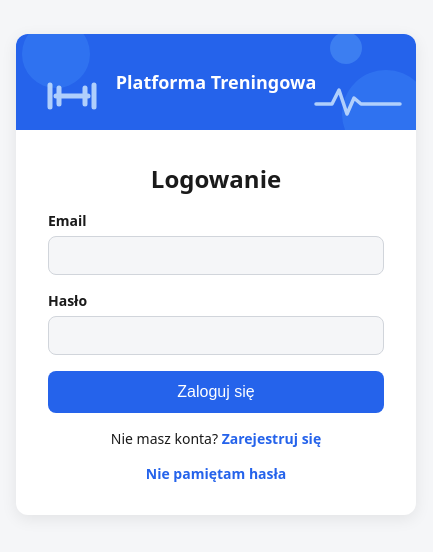
LoginPage › przy 401 pokazuje ogólny komunikat, nie przekierowuje i nie wylogowuje
Type "jan@example.com" into the field labelled "Email" at (216, 255), box left=48, top=236, right=384, bottom=274
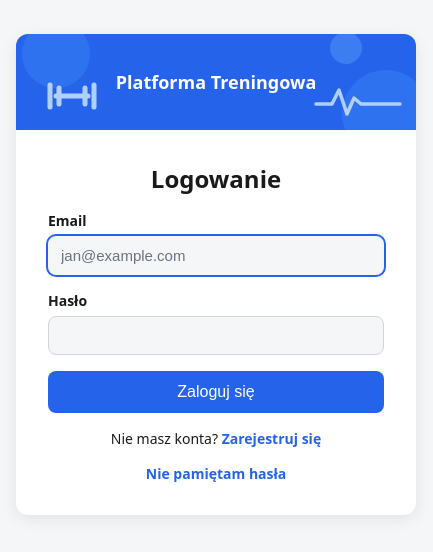
Type "zle-haslo" into the password field labelled "Hasło" at (216, 335), box left=48, top=316, right=384, bottom=354
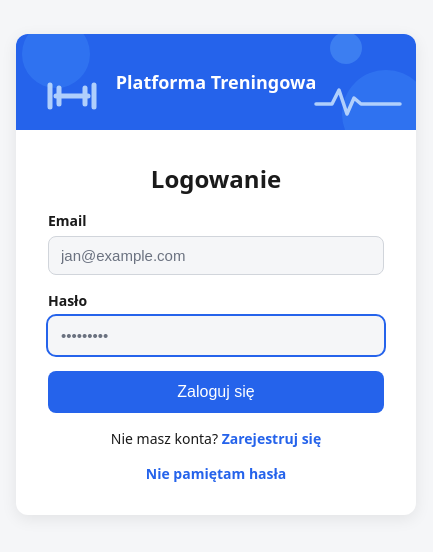
Click the button "Zaloguj się" at (216, 392), box left=48, top=370, right=384, bottom=412
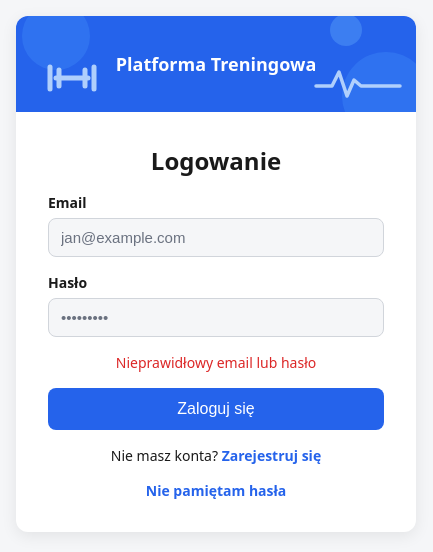
Expected: the button "Zaloguj się" is shown, left=48, top=388, right=384, bottom=430
Now the text "Nieprawidłowy email lub hasło" is shown, box left=116, top=353, right=316, bottom=372
